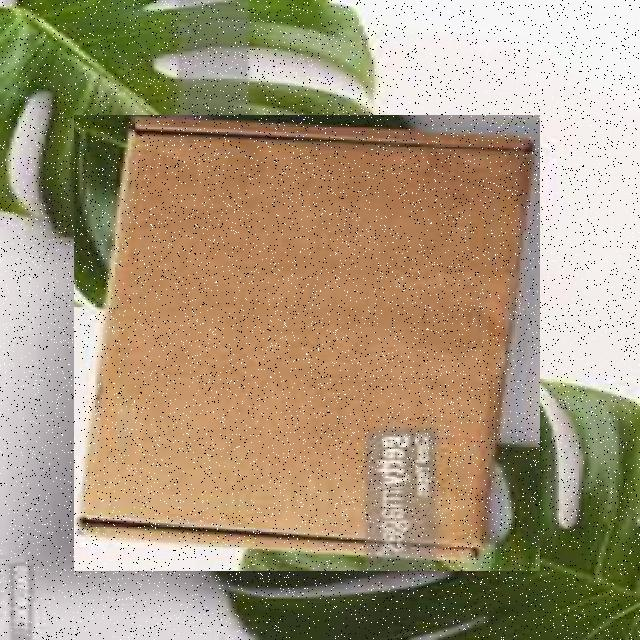normal: (74, 115, 540, 571)
